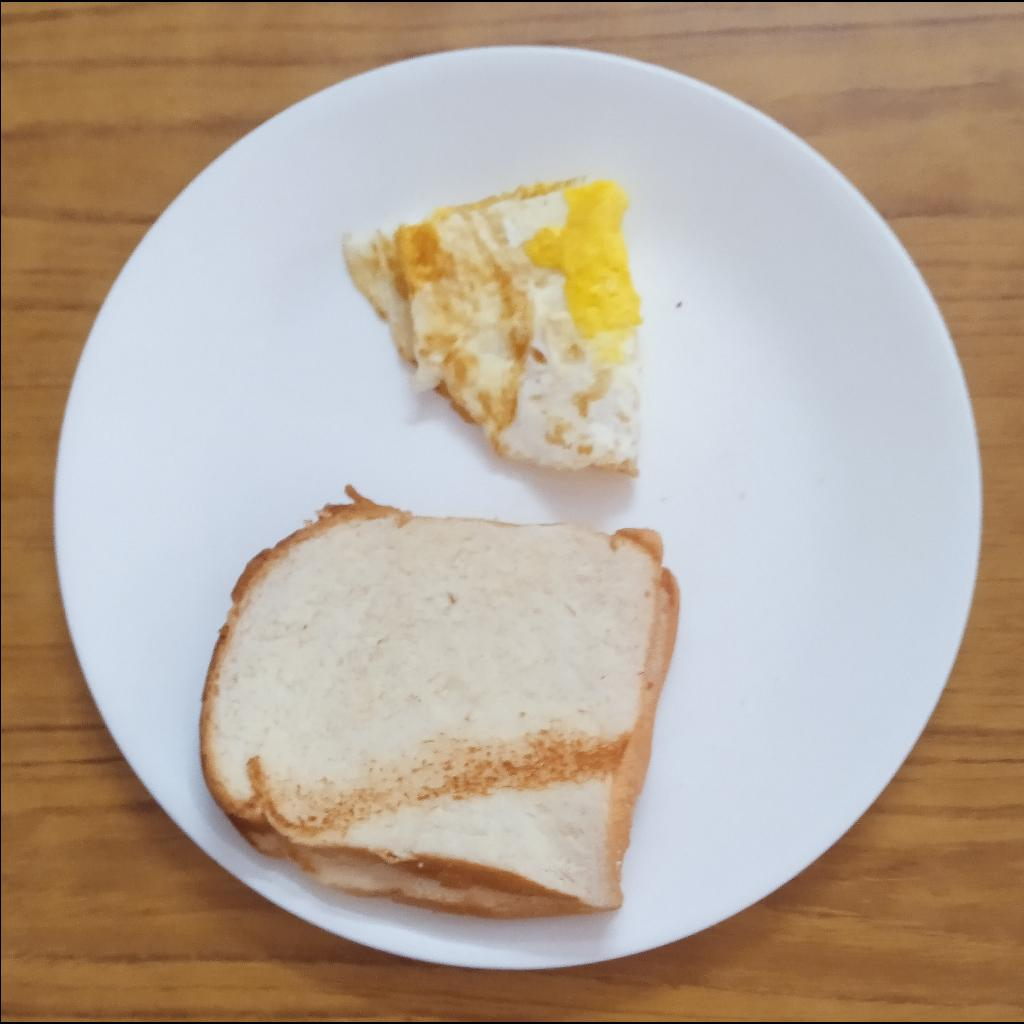bread: (196, 488, 681, 922)
egg-poached: (340, 173, 642, 473)
